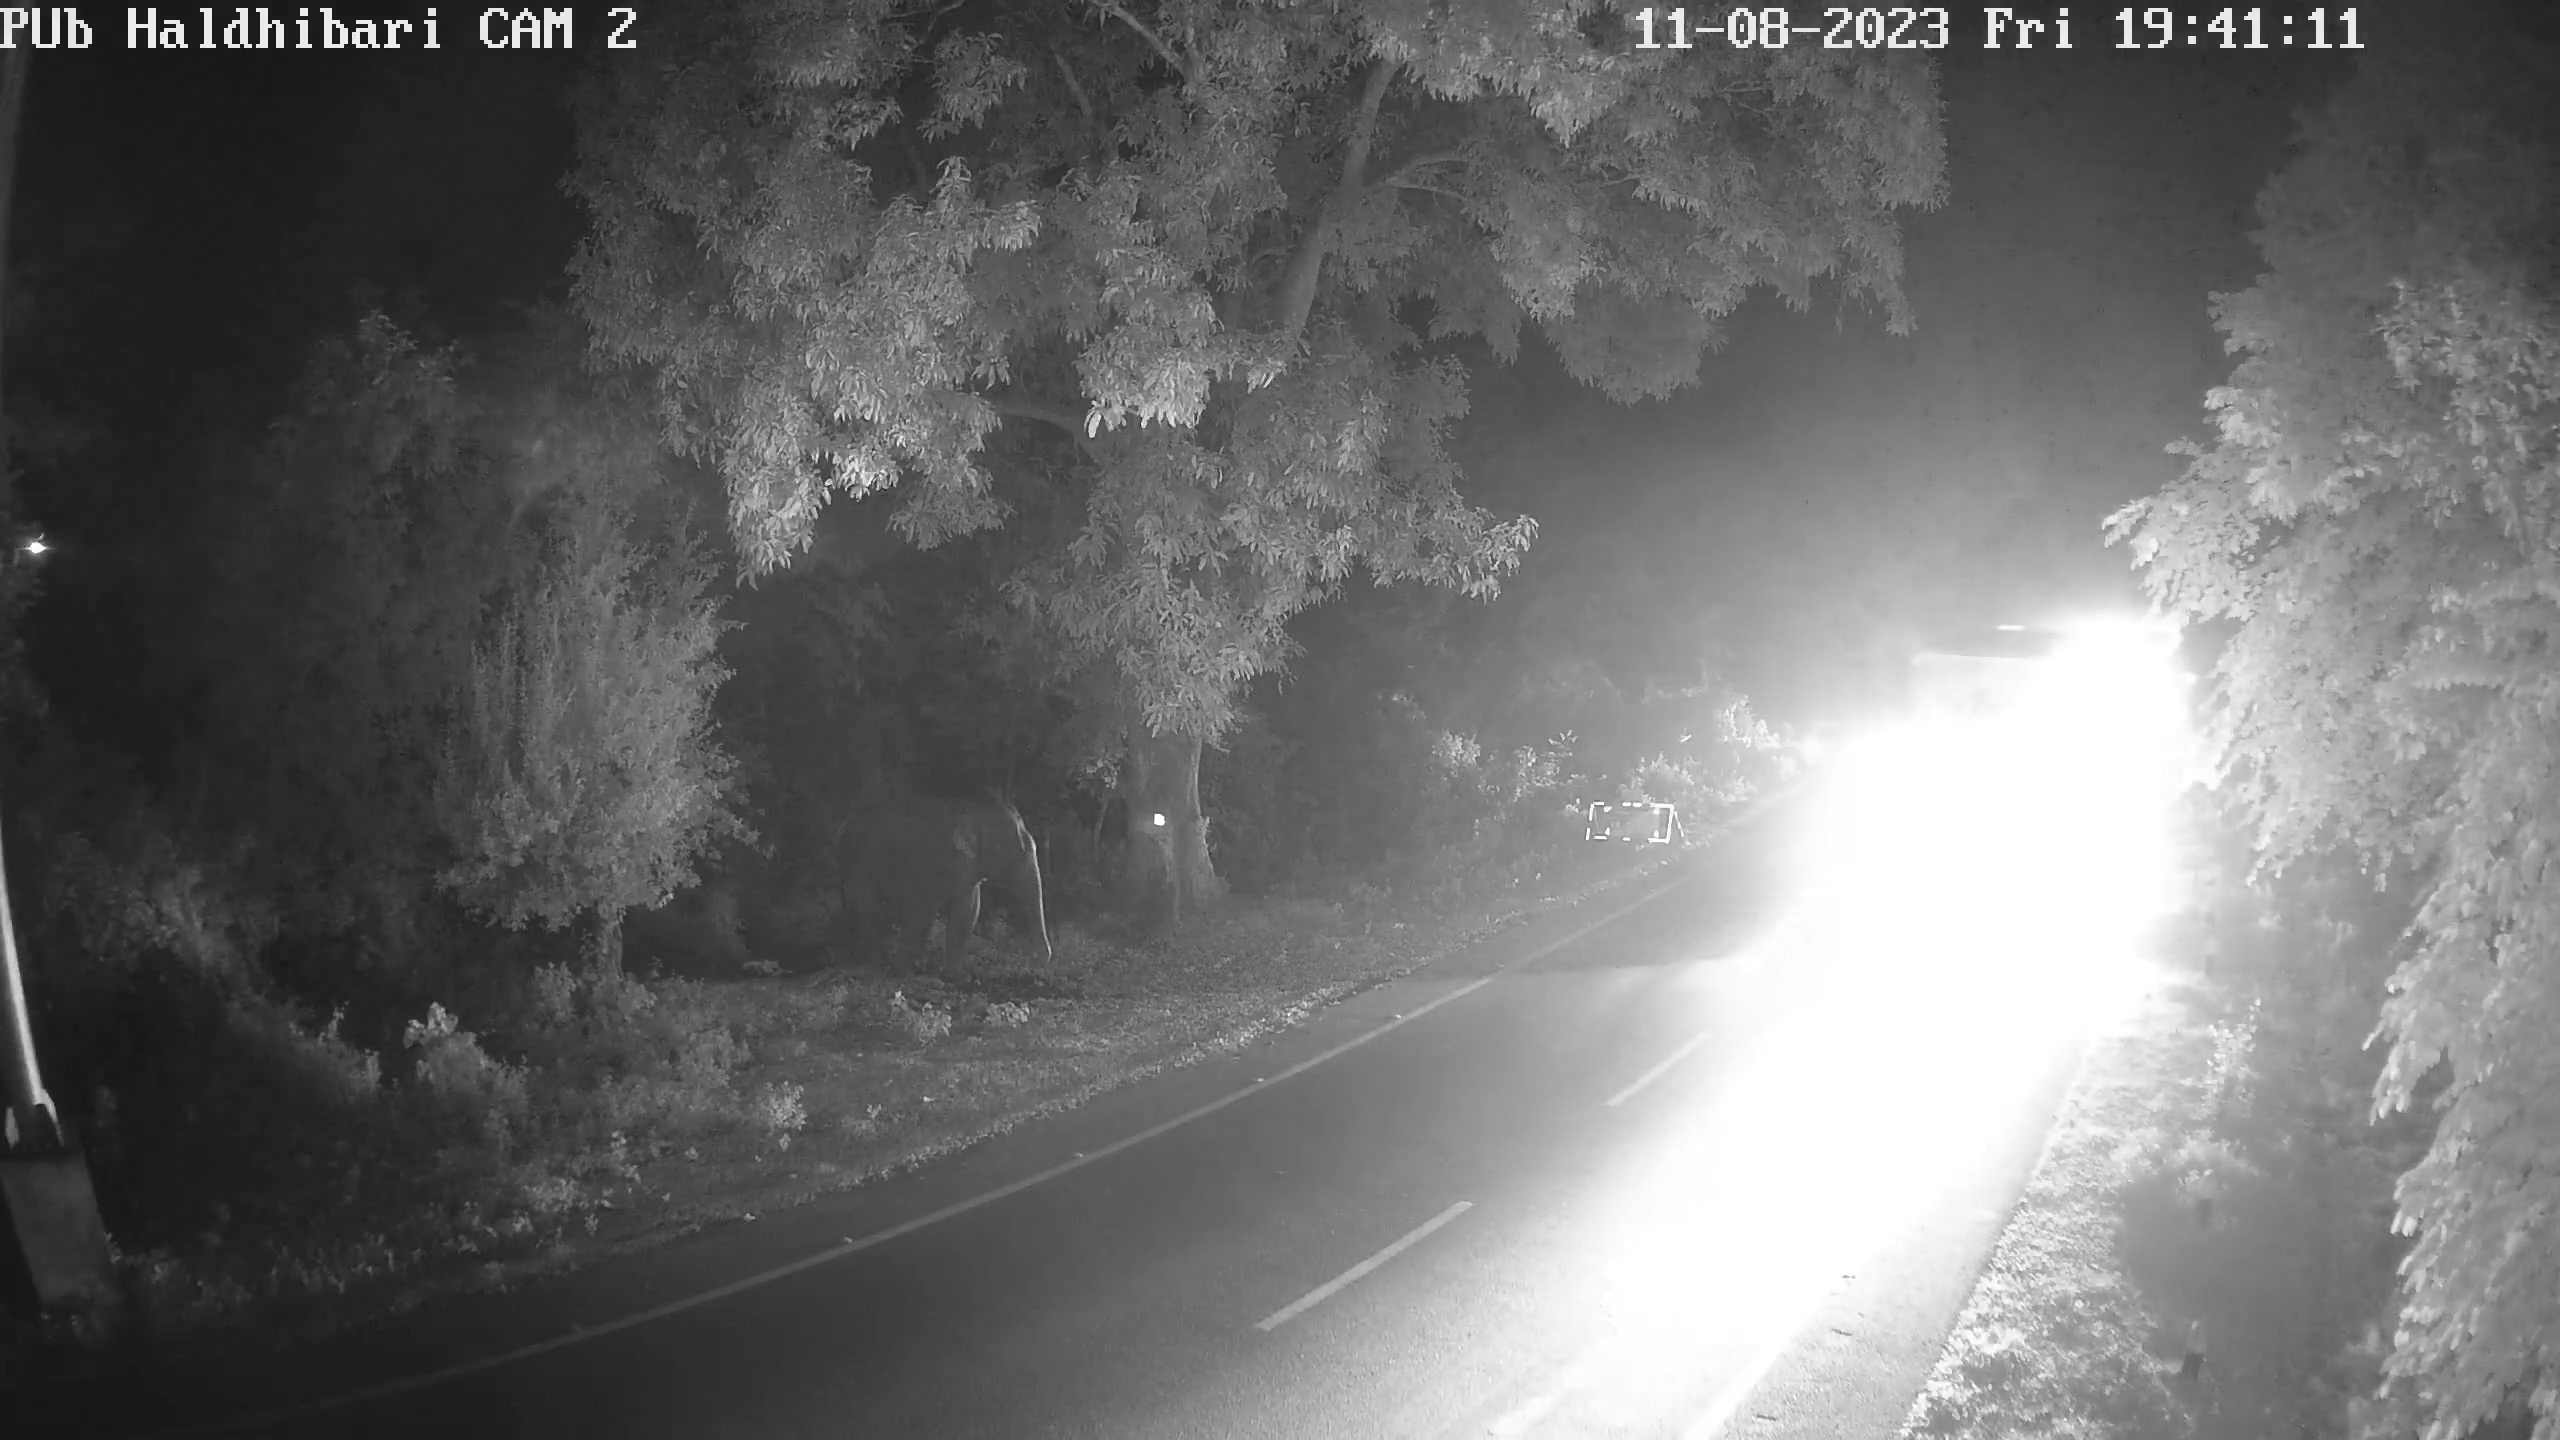elephants: (821, 798, 1065, 955)
